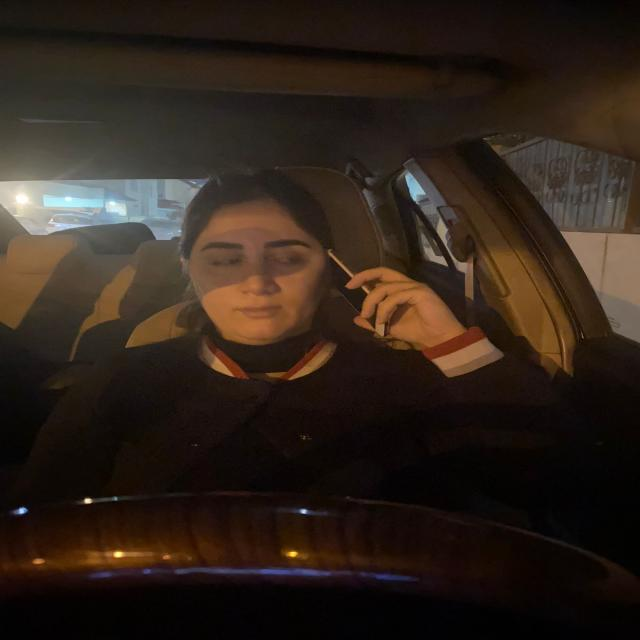mobile: (323, 247, 396, 344)
person: (181, 179, 328, 344)
